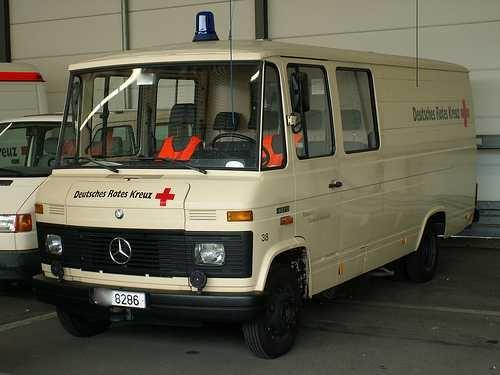car: (30, 10, 479, 359)
